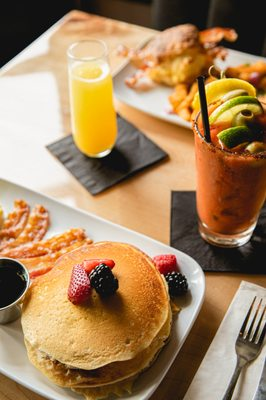pizza: (193, 118, 266, 249)
sushi: (0, 258, 31, 325)
